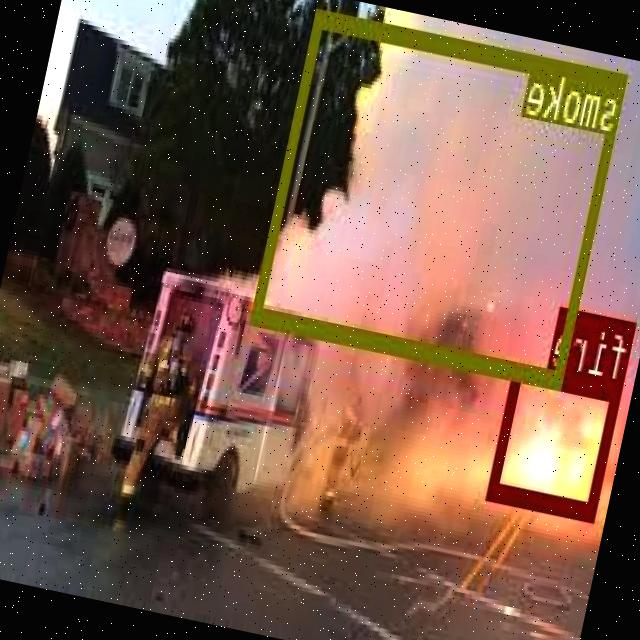fire: (488, 360, 624, 520)
smoke: (254, 9, 628, 387)
